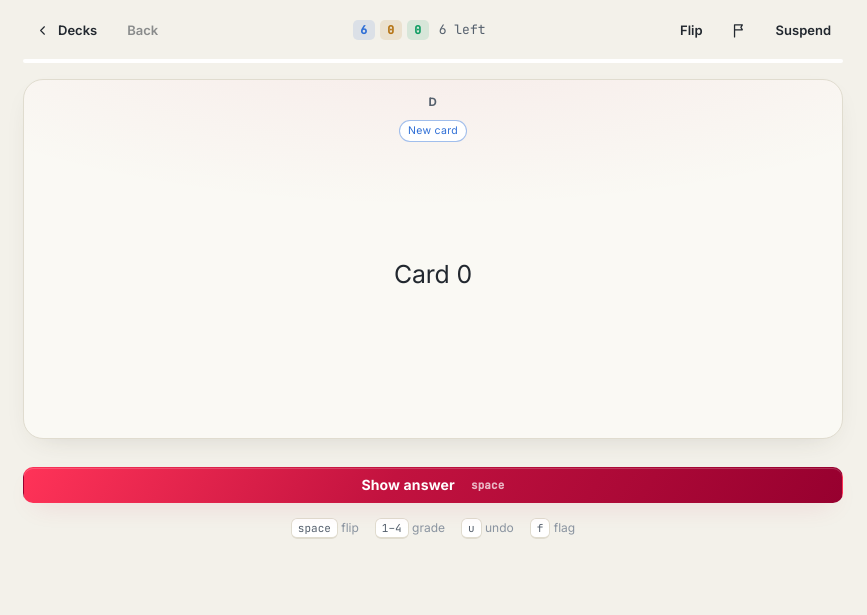
Test case: a due learning card is shown promptly, not parked behind the whole deck › returns a minute later even though other cards are still queued
Expected: the text "Card 0" is shown, [394,259,472,289]
Click the button "Show answer space": coordinates (433, 485) [23,467,843,503]
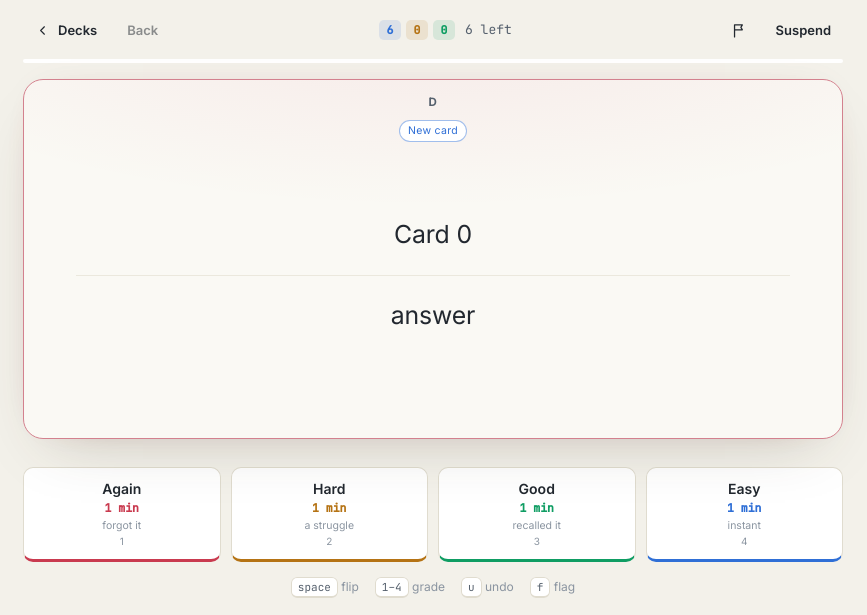
Click the text "Again": coordinates (122, 488) [102,480,141,497]
Wait 61000 ms
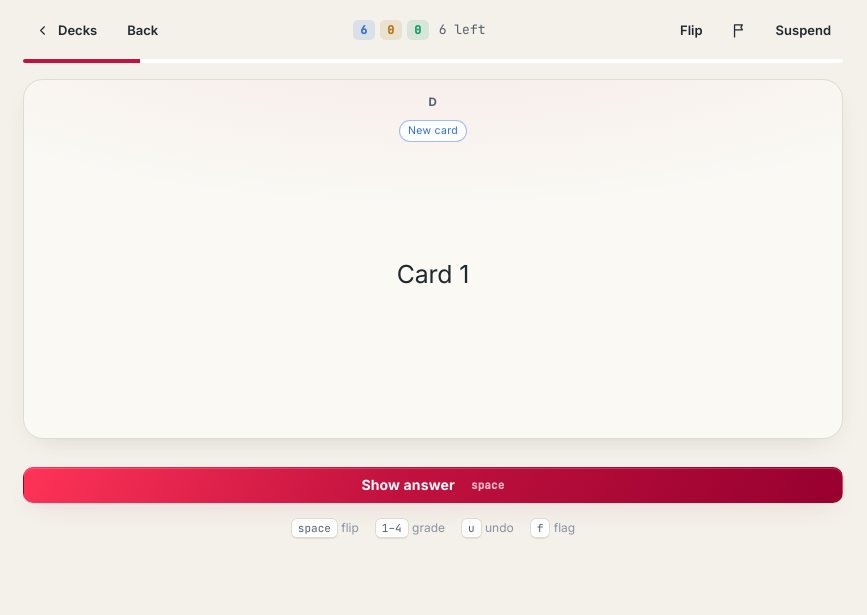
Result: the text "Card 1" is shown at [397,259,469,289]
Click the button "Show answer space": coordinates (433, 485) [23,467,843,503]
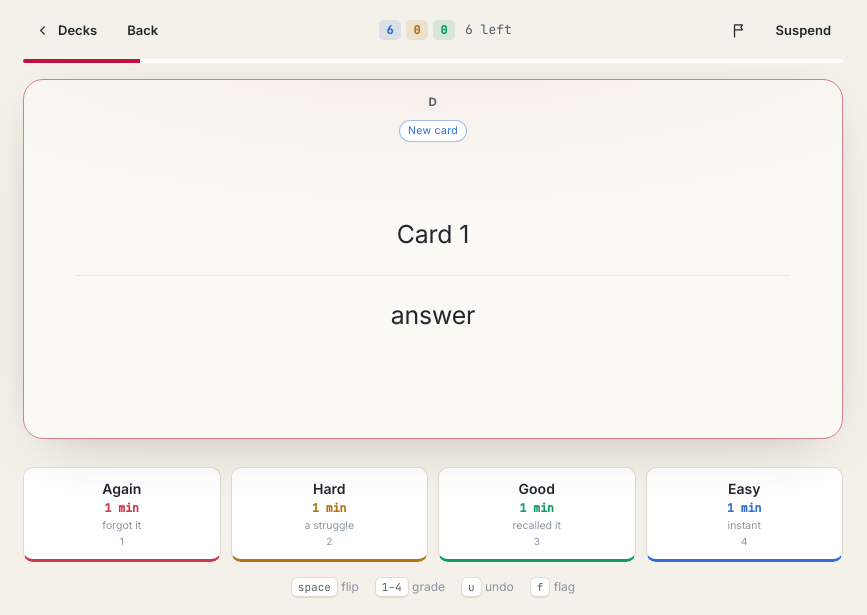
Click the text "Easy": coordinates (744, 488) [728,480,760,497]
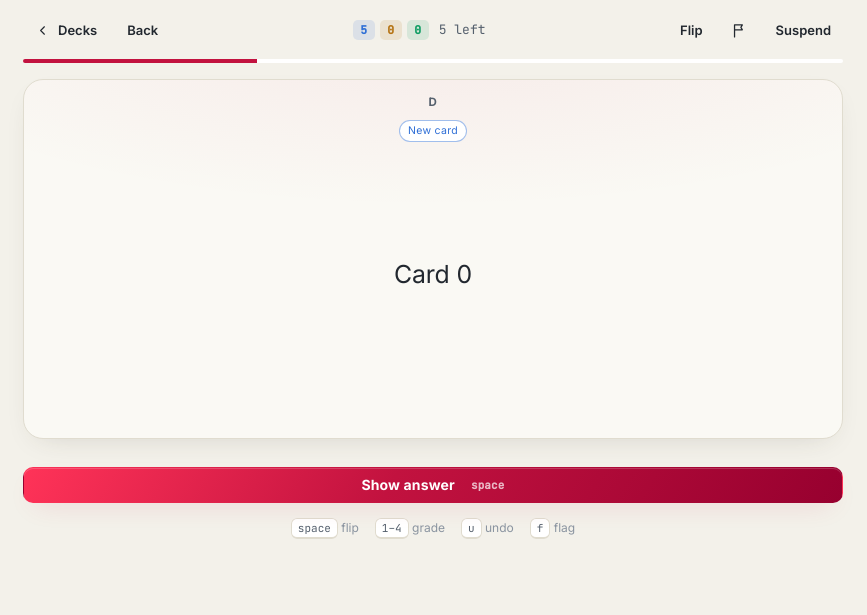
Result: the text "Card 0" is shown at [394,259,472,289]
